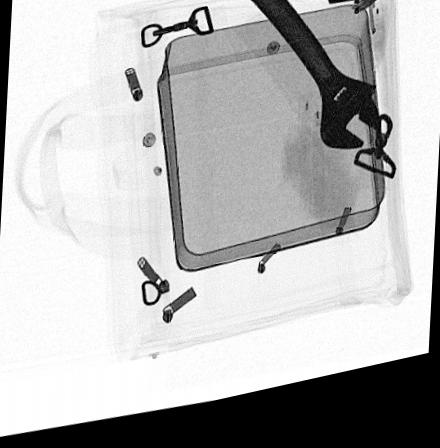Wrench: (245, 0, 381, 167)
